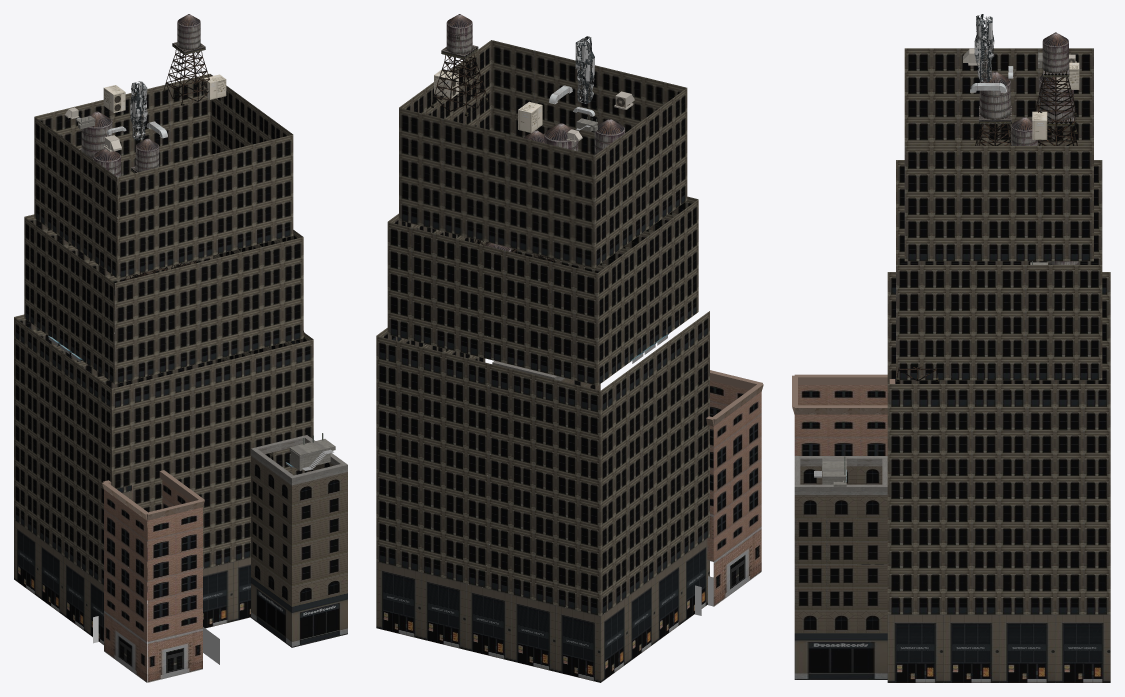
File: nycity_10.gltf
The picture shows the model from 3 angles, left to right: view 1: azimuth 30°, elevation 25°; view 2: azimuth 150°, elevation 25°; view 3: azimuth 270°, elevation 25°; orthographic projection. The views are drawn at different scales.
Visible parts, largest first — view 1: nycity_10; view 2: nycity_10; view 3: nycity_10.
Part boxes in pixels (x1=…): nycity_10: x1=14, y1=14, x2=347, y2=682; nycity_10: x1=376, y1=14, x2=763, y2=682; nycity_10: x1=792, y1=14, x2=1110, y2=682.
Size of the model in its own units: 32.44 by 80.95 by 37.56.
Materials: 19 (12 with a texture image).
